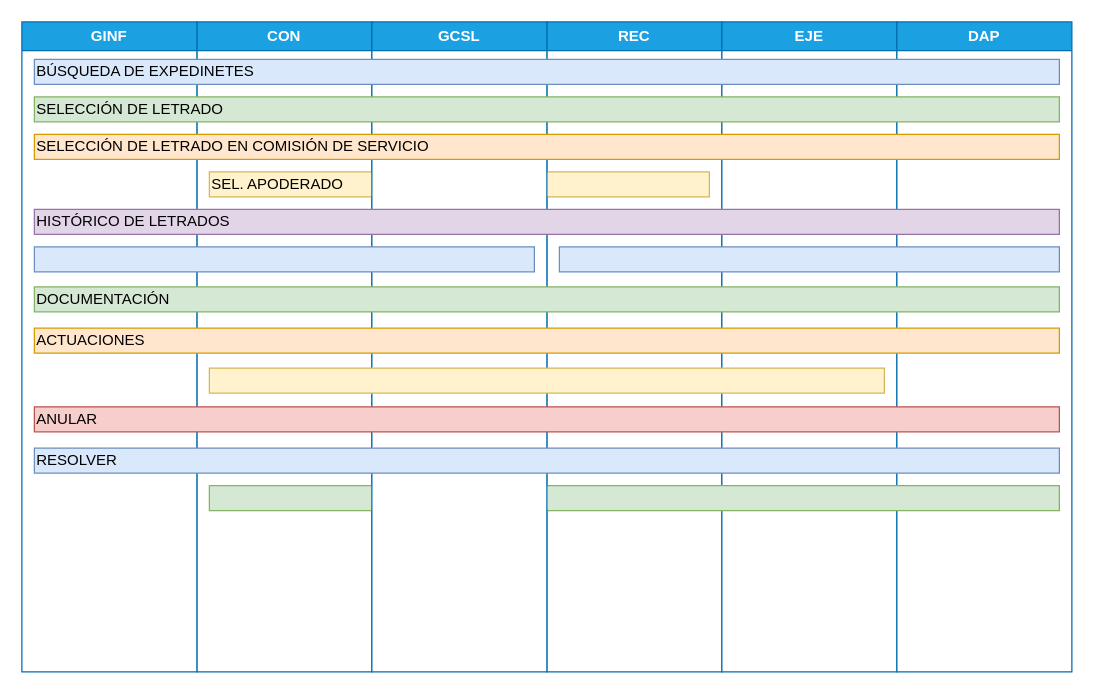
Some shapes in this 1094 by 694 pixel diagram are drawn without their labels. The shapes that lost their labels are listed below. From the top down, each one's centre as x and y in pixels, then its label:
At pixel 283 259: "PARTES".
At pixel 808 259: "SELECCIÓN PARTES".
At pixel 546 380: "SELECCIÓN ÓRGANO JURISDICCINAL".
At pixel 633 497: "RESOLVER COSTAS".
